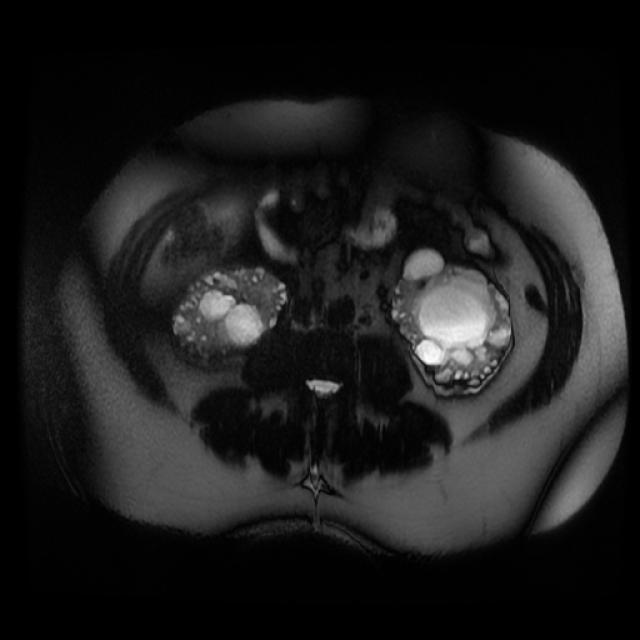sag: (169, 269, 291, 355)
sol: (394, 249, 512, 386)
